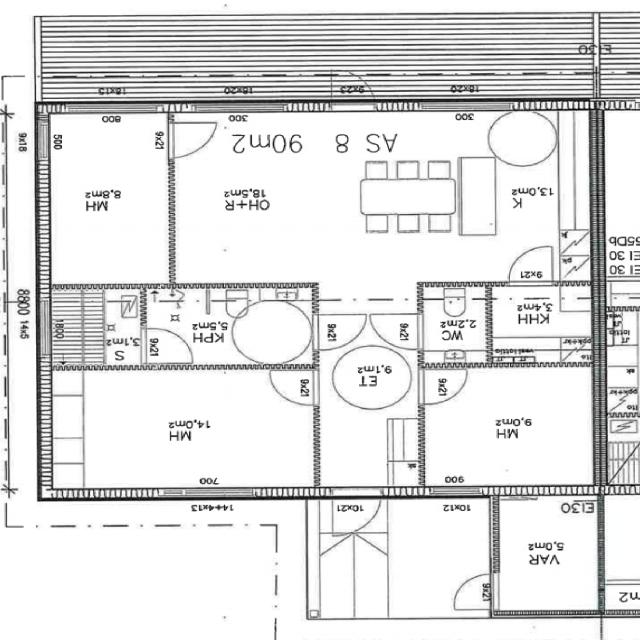door: (333, 488, 380, 538), (331, 66, 375, 114), (447, 574, 500, 609), (313, 314, 363, 350), (508, 249, 552, 289), (417, 370, 466, 404), (375, 314, 424, 348), (271, 371, 320, 404), (168, 124, 217, 157), (140, 329, 187, 362)
